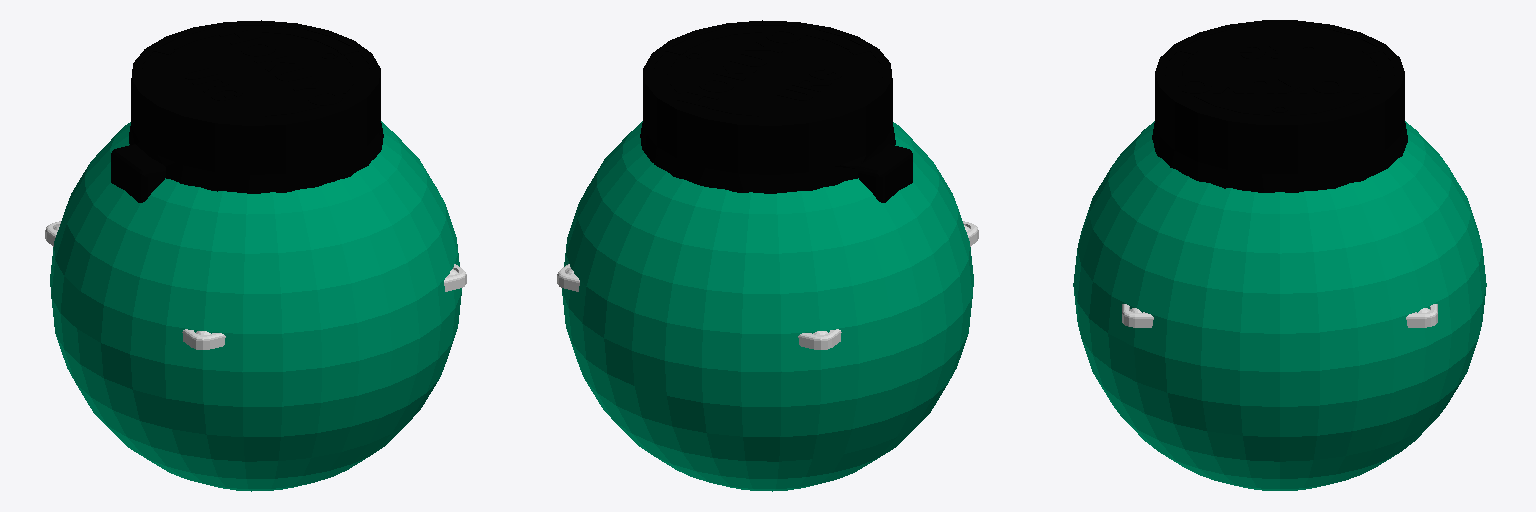
robot.urdf — f1_renault:
<?xml version="1.0" ?>
<robot name="f1_renault">
  <link name="f1">
    <origin rpy="0 0 0" xyz="0 0 0"/>
    <inertial>
      <mass value="10"/>
      <inertia ixx="1" ixy="0.0" ixz="0.0" iyy="1" iyz="0.0" izz="1.0"/>
    </inertial>
    <visual>
      <geometry>
        <mesh filename="package://f1/models/f1_renault_laser/Renault/Car.obj" scale="0.2 0.2 0.2"/>
      </geometry>
    </visual>
  </link>
  <link name="laser_body">
    <origin rpy="0.000000 0.000000 0.00000" xyz="0.500000 0.000000 0.072000"/>
    <visual>
      <geometry>
        <mesh filename="package://f1/models/f1_renault_laser/meshes/hokuyo.dae"/>
      </geometry>
    </visual>
    <kinematic>0</kinematic>
  </link>
  <link name="camera_top_body_left">
    <origin rpy="0.000000 -0.000000 0.0000000" xyz="0.45000 0.040000 0.1000000"/>
    <inertial>
      <mass value="2"/>
      <inertia ixx="1.000000" ixy="0.000000" ixz="0.000000" iyy="1.000000" iyz="0.000000" izz="1.000000"/>
    </inertial>
    <visual>
      <geometry>
        <sphere radius=".005"/>
      </geometry>
    </visual>
    <kinematic>0</kinematic>
  </link>
  <link name="camera_top_body_right">
    <origin rpy="0.000000 -0.000000 0.0000000" xyz="0.45000 -0.040000 0.1000000"/>
    <inertial>
      <mass value="2"/>
      <inertia ixx="1.000000" ixy="0.000000" ixz="0.000000" iyy="1.000000" iyz="0.000000" izz="1.000000"/>
    </inertial>
    <visual>
      <geometry>
        <sphere radius=".005"/>
      </geometry>
    </visual>
    <kinematic>0</kinematic>
  </link>
  <joint name="camera_left" type="revolute">
    <origin rpy="0 0 0" xyz="0 0 0"/>
    <child link="camera_top_body_left"/>
    <parent link="f1"/>
    <axis xyz="0 0 0"/>
  </joint>
  <joint name="camera_right" type="revolute">
    <origin rpy="0 0 0" xyz="0 0 0"/>
    <child link="camera_top_body_right"/>
    <parent link="f1"/>
    <axis xyz="0 0 0"/>
  </joint>
  <joint name="laser_fix" type="fixed">
    <origin rpy="0 0 0" xyz="0 0 0"/>
    <child link="laser_body"/>
    <parent link="f1"/>
    <axis xyz="0 0 0"/>
  </joint>
</robot>

--- Facts derived from the render (not from the file) ---
Views: 3 orthographic renders of the robot side by side, from view 1: azimuth 30°, elevation 25°; view 2: azimuth 150°, elevation 25°; view 3: azimuth 270°, elevation 25°.
Model f1_renault with 4 links and 3 joints (2 revolute, 1 fixed), rooted at f1, posed all joints at 0.
Visible links, largest first — view 1: camera_top_body_left, laser_body; view 2: camera_top_body_left, laser_body; view 3: camera_top_body_left, laser_body.
Boxes of the visible links, x1,y1,x2,y2 form: camera_top_body_left: (50,121,461,491); laser_body: (45,20,466,349); camera_top_body_left: (562,121,973,491); laser_body: (557,20,978,349); camera_top_body_left: (1073,121,1486,490); laser_body: (1122,20,1437,327).
Bounding box of the posed robot: 0.01 × 0.01 × 0.0107 m (x, y, z).
Meshes: 2 distinct files referenced, 1 mesh visuals loaded (1 Collada DAE); not drawn: 1 (reference not matched to a file when rendering).
